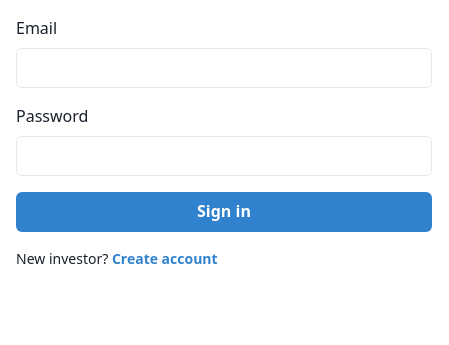
it: sign in and create account › shows the wrong-credentials message without saying which part was wrong
Type "ana@example.com" into the field labelled "Email". click: (224, 68)
box: [16,48,432,88]
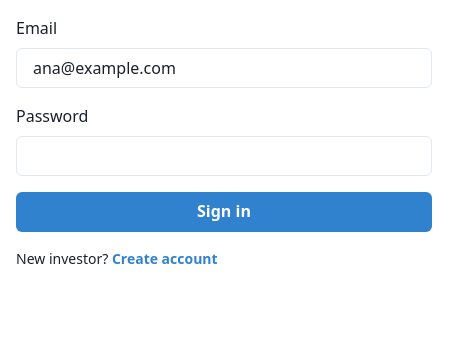
Type "wrong-password-99" into the password field labelled "Password". click: (224, 156)
box: [16,136,432,176]
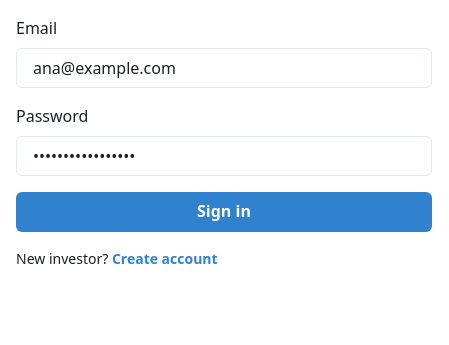
Click the button "Sign in". click: (224, 212)
box: [16,192,432,232]
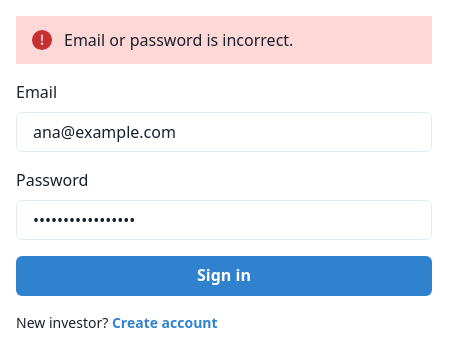
Check: the text "Email or password is incorrect." is shown, box [16,16,432,64]
